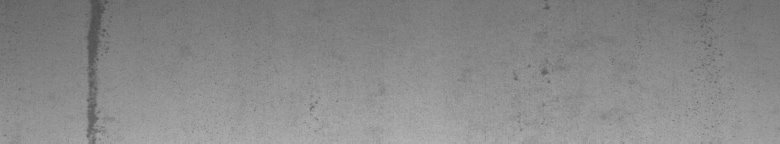hd: (82, 4, 115, 136)
